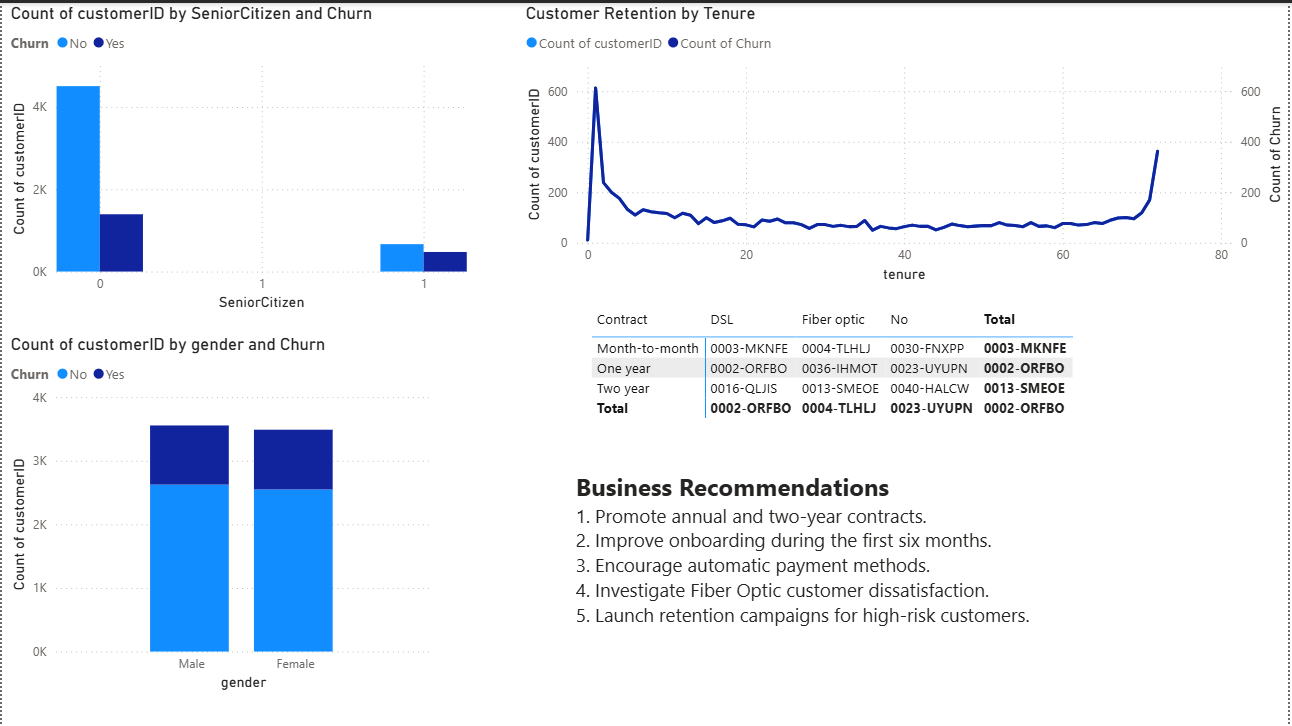

This screenshot's page, from the dashboard's own definition file:
{"tool":"powerbi","page":{"name":"Retention Analysis","canvas":[1280,720],"ordinal":1},"visuals":[{"type":"lineChart","title":"Customer Retention by Tenure","fields":{"Category":["WA_Fn-UseC_-Telco-Customer-Churn.tenure"],"Y":["CountNonNull(WA_Fn-UseC_-Telco-Customer-Churn.customerID)"],"Y2":["CountNonNull(WA_Fn-UseC_-Telco-Customer-Churn.Churn)"]},"box":[516.2,0,763.8,282.4],"z":0},{"type":"columnChart","fields":{"Category":["WA_Fn-UseC_-Telco-Customer-Churn.gender"],"Series":["WA_Fn-UseC_-Telco-Customer-Churn.Churn"],"Y":["CountNonNull(WA_Fn-UseC_-Telco-Customer-Churn.customerID)"]},"box":[3.7,329.6,427.9,359.5],"z":1000},{"type":"clusteredColumnChart","fields":{"Category":["WA_Fn-UseC_-Telco-Customer-Churn.SeniorCitizen"],"Y":["CountNonNull(WA_Fn-UseC_-Telco-Customer-Churn.customerID)"],"Series":["WA_Fn-UseC_-Telco-Customer-Churn.Churn"]},"box":[3.7,0,464,311],"z":2000},{"type":"pivotTable","fields":{"Rows":["WA_Fn-UseC_-Telco-Customer-Churn.Contract"],"Columns":["WA_Fn-UseC_-Telco-Customer-Churn.InternetService"],"Values":["Min(WA_Fn-UseC_-Telco-Customer-Churn.customerID)"]},"box":[582.2,298.6,498.8,145.5],"z":3000},{"type":"textbox","box":[566,460.3,604.6,191.6],"z":3001}]}

Visuals, with their boxes in screenshot pixels (x1, y1, x2, y2), scaled from the page's 1280x720 canvas onto the 1292x726 screenshot:
"Customer Retention by Tenure" lineChart: 521 0 1291 285
columnChart - WA_Fn-UseC_-Telco-Customer-Churn.gender x WA_Fn-UseC_-Telco-Customer-Churn.Churn: 4 332 436 695
clusteredColumnChart - WA_Fn-UseC_-Telco-Customer-Churn.SeniorCitizen x CountNonNull(WA_Fn-UseC_-Telco-Customer-Churn.customerID): 4 0 472 314
pivotTable - WA_Fn-UseC_-Telco-Customer-Churn.Contract x WA_Fn-UseC_-Telco-Customer-Churn.InternetService: 588 301 1091 448
textbox: 571 464 1182 657
